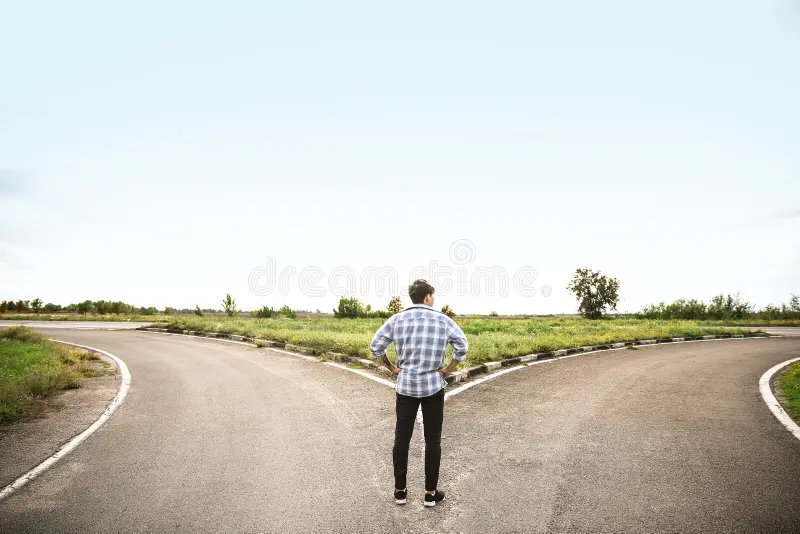person: (367, 278, 470, 509)
